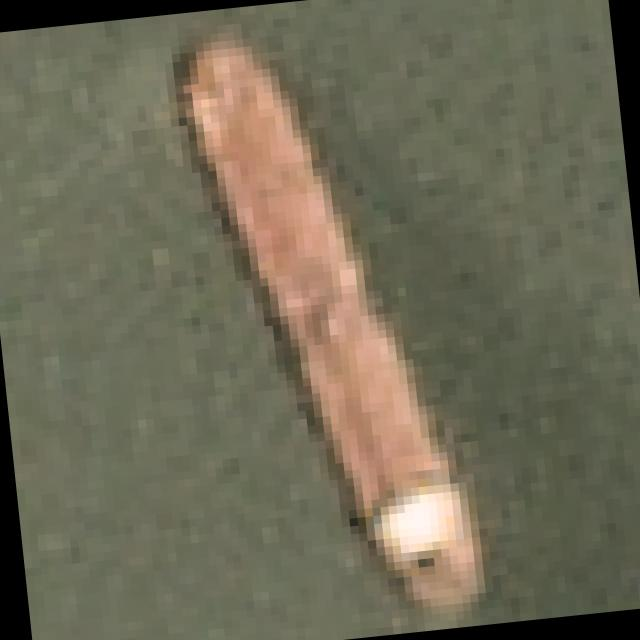ship: (110, 0, 568, 640)
